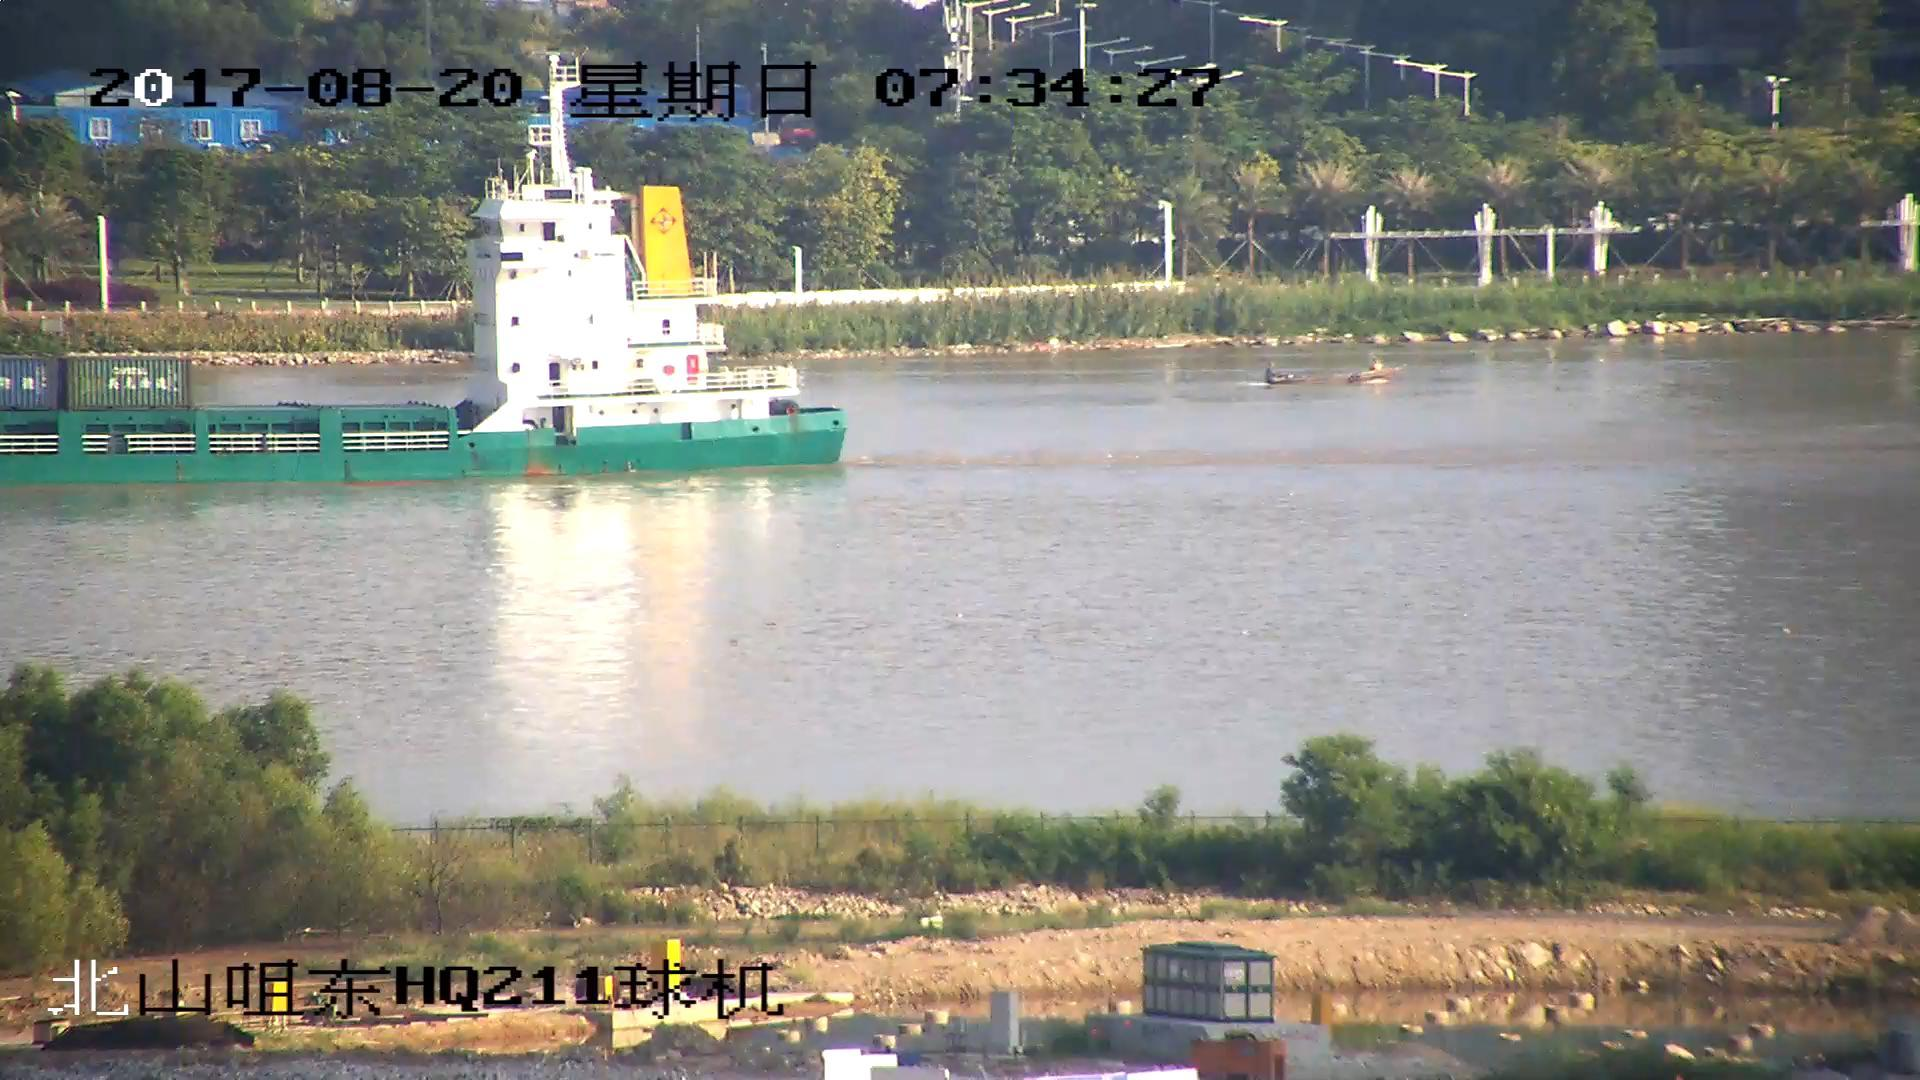Ship: (3, 116, 851, 481), (1265, 359, 1400, 390)
